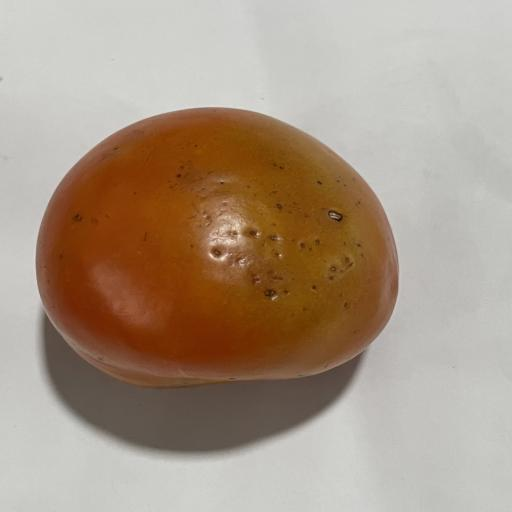overipe: (36, 108, 398, 387)
